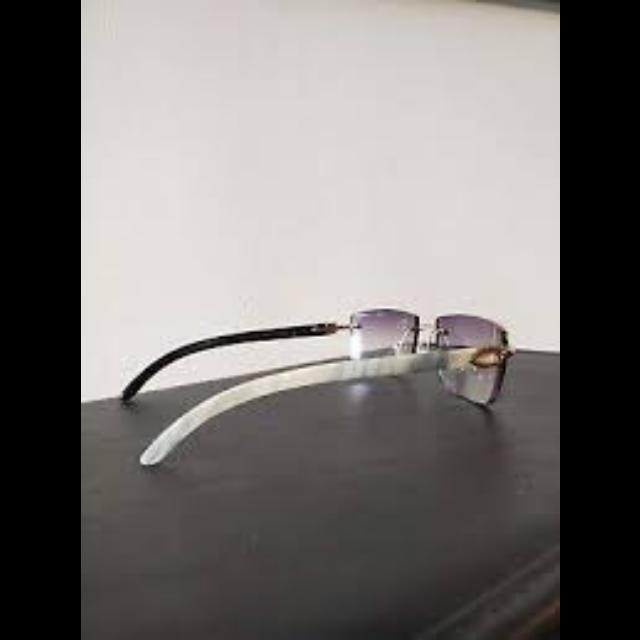sunglasses: (103, 286, 542, 472)
